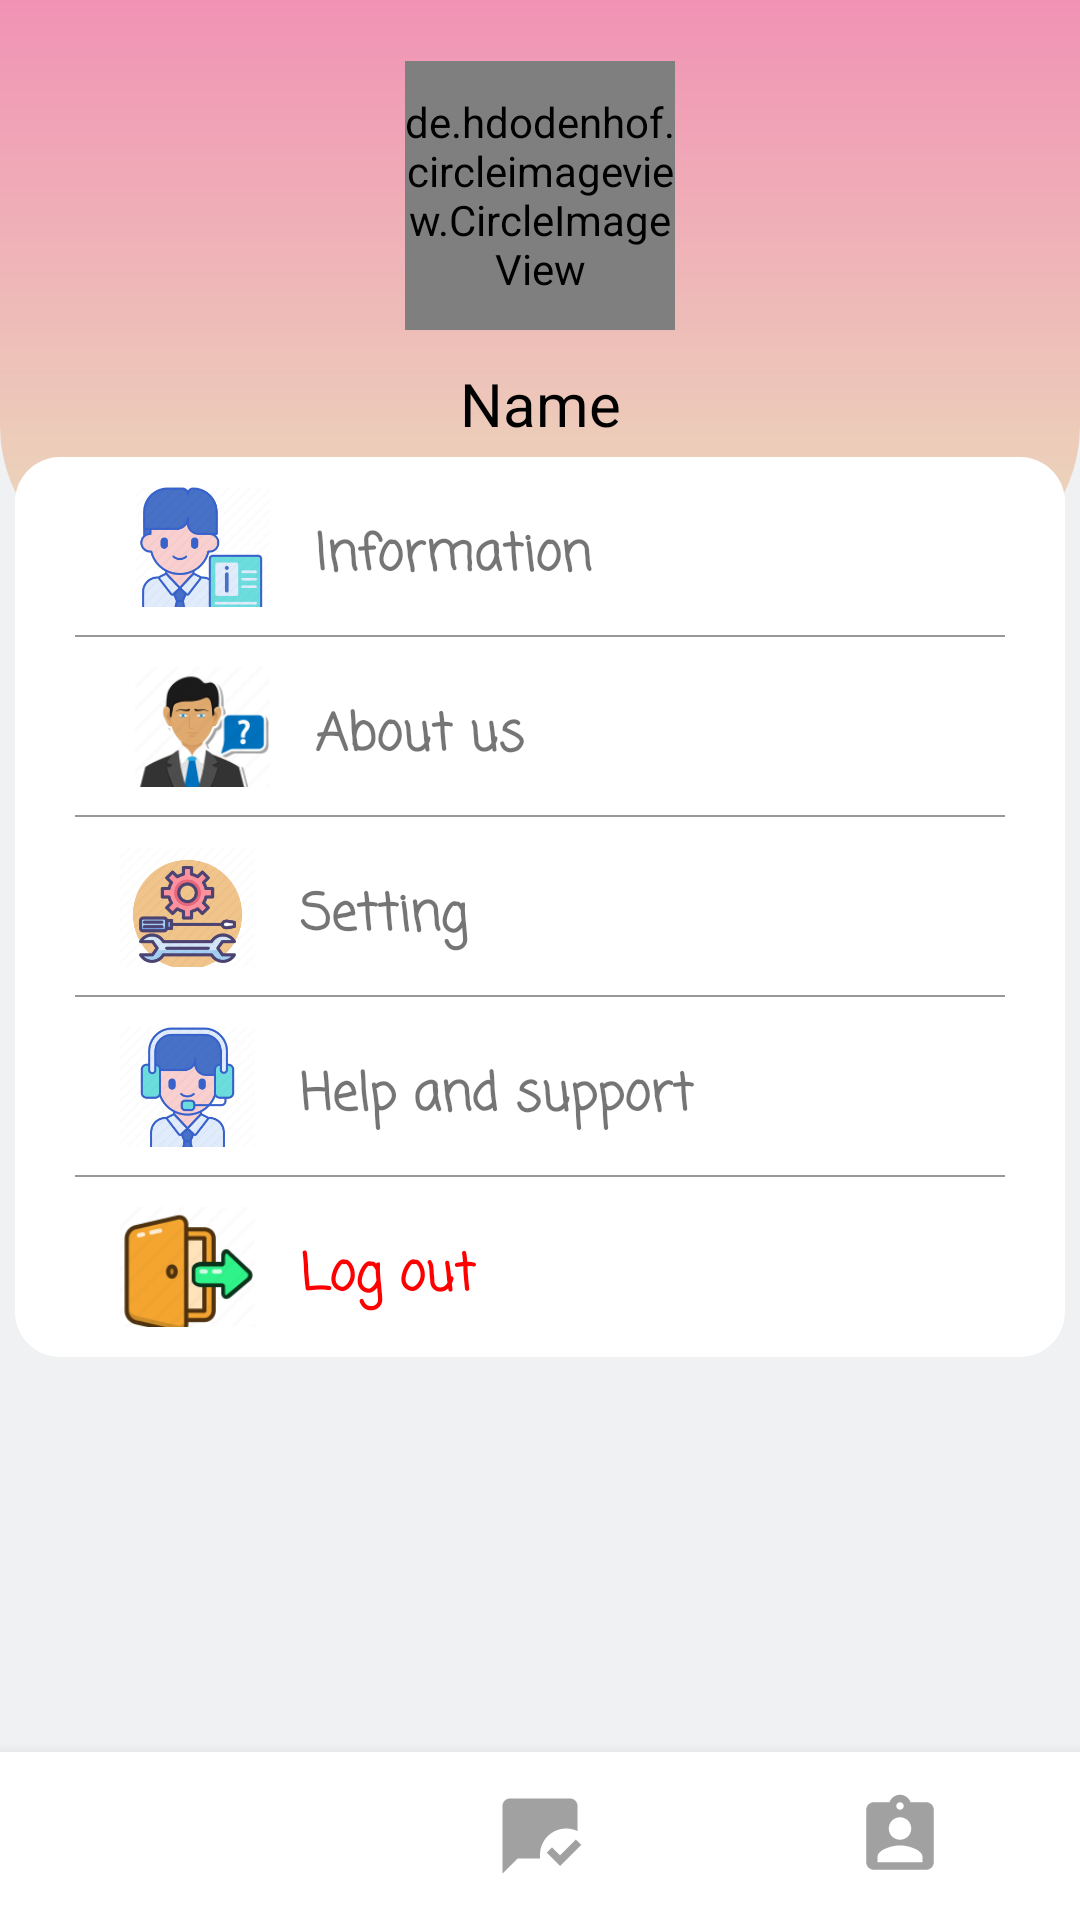

Icons on this 1080w x 1920h Android screen, each with its box as (x1, y1, x2, y2):
help and sp: (140, 1027, 235, 1147)
